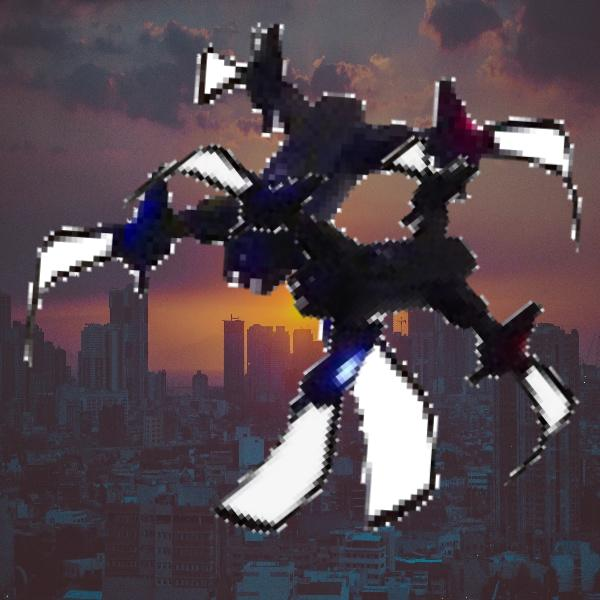drone: (5, 2, 590, 587), (74, 87, 568, 581)
